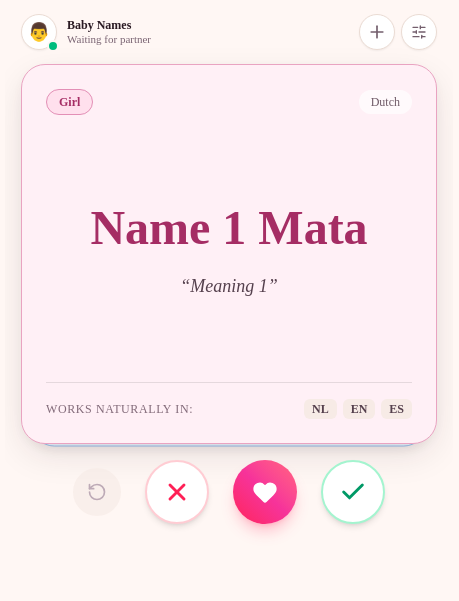
Test: DeckScreen › restores the undone card and reports a 404 instead of failing silently
Expected: the heading "Name 1 Mata" is shown, [90,201,368,254]
Click the button named "Like this name" at (353, 492), box [321,460,385,524]
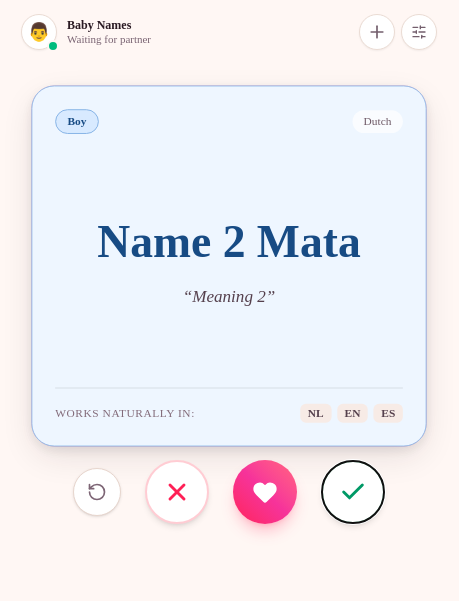
Click the button named "Undo last swipe" at (97, 492), box [73,468,121,516]
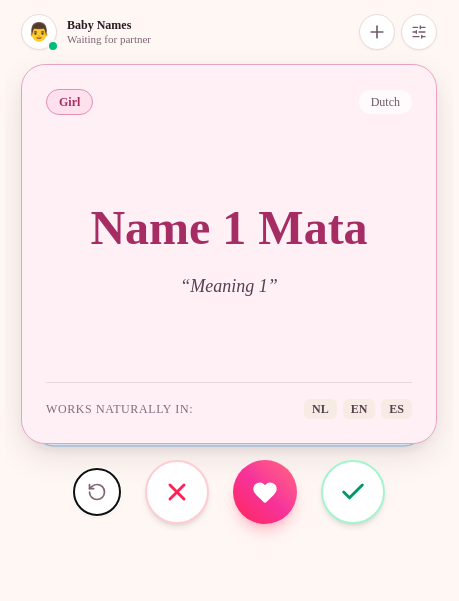
Now the heading "Name 1 Mata" is shown, box [90,201,368,254]
Click the button named "Undo last swipe" at (97, 492), box [73,468,121,516]
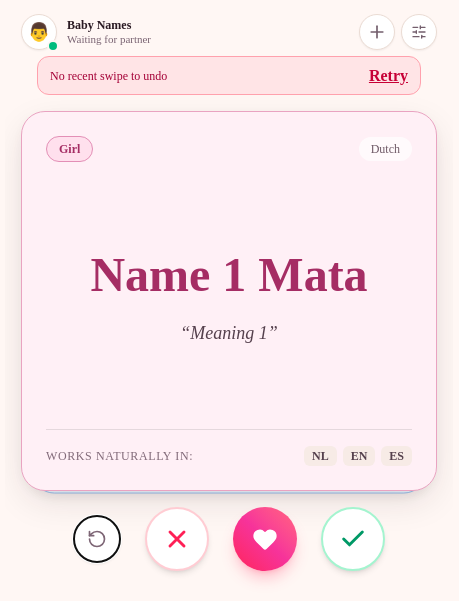
Now the text "No recent swipe to undo" is shown, box [50,68,167,84]
